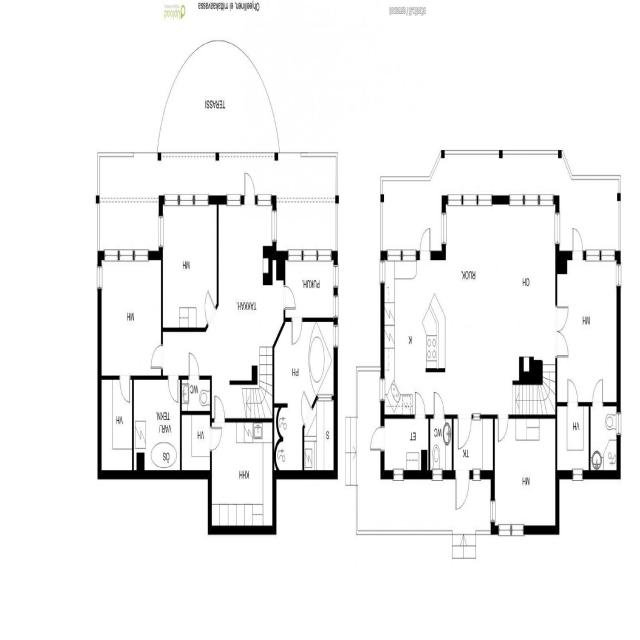door: (201, 290, 216, 326), (297, 392, 312, 426), (456, 470, 469, 509), (458, 415, 471, 448), (555, 331, 568, 356), (420, 228, 430, 260), (555, 307, 568, 331), (245, 173, 255, 204), (370, 428, 384, 450), (573, 229, 582, 260), (150, 345, 162, 368), (592, 379, 602, 406), (434, 392, 444, 419), (210, 428, 222, 450), (168, 376, 178, 402), (189, 353, 199, 379), (292, 318, 302, 344), (215, 396, 225, 422), (415, 393, 425, 419), (498, 415, 508, 441), (284, 286, 295, 308), (120, 376, 129, 401), (568, 381, 577, 406)
